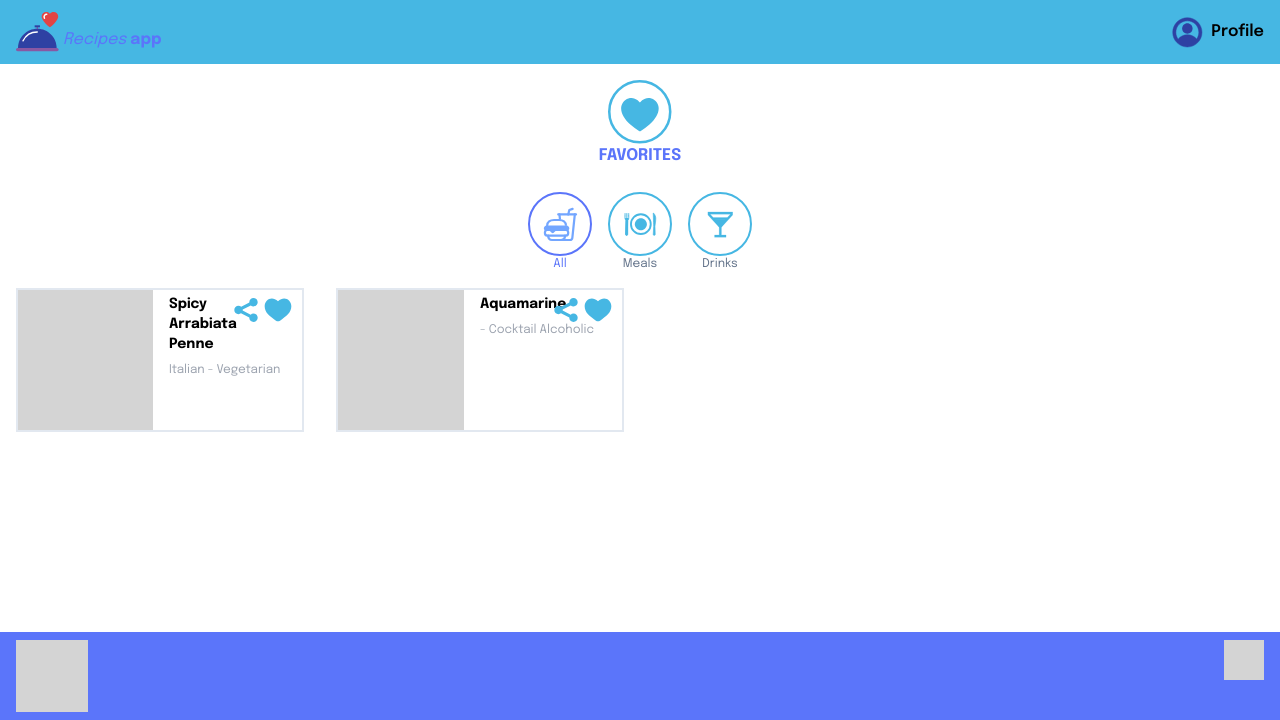
Test: favorite recipes page › should dislike a recipe after favorite btn click
What coordinates should you click on to do the following:
click the button with test id "0-horizontal-favorite-btn"
I would click on:
 (278, 310)
Its box is 262,294 -> 294,326.
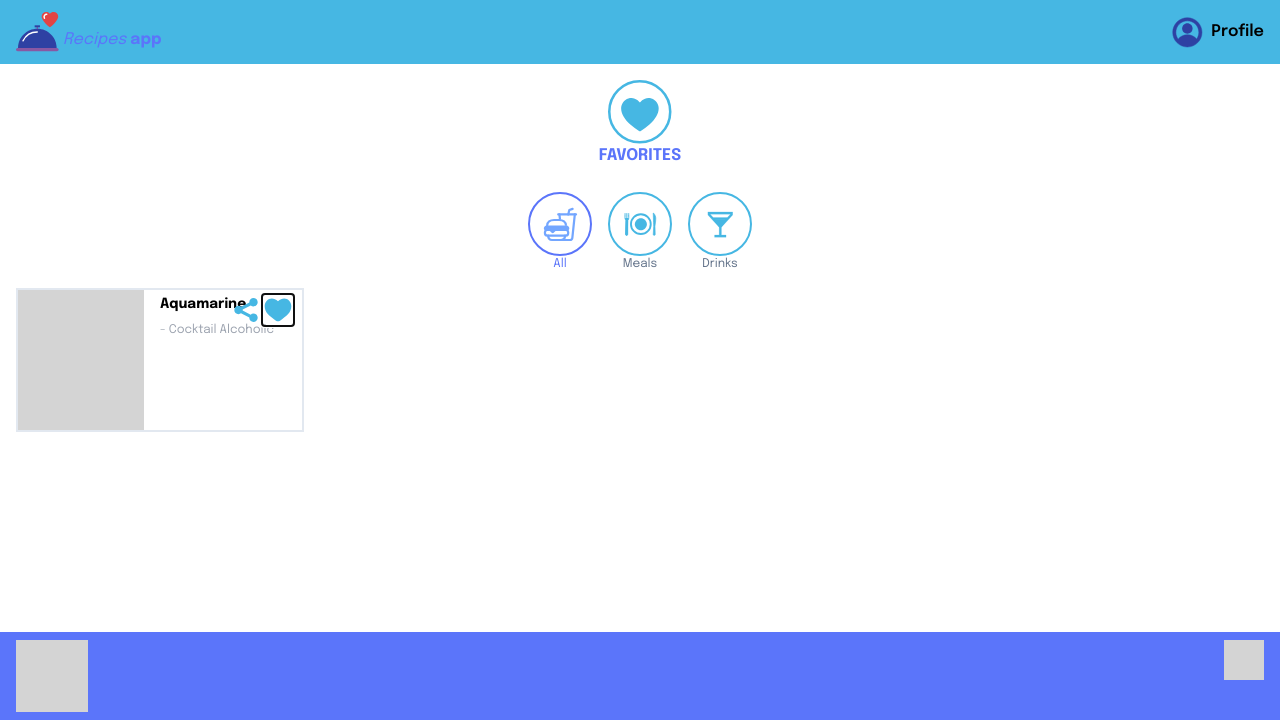
Expected: the link "Spicy Arrabiata Penne" is gone
